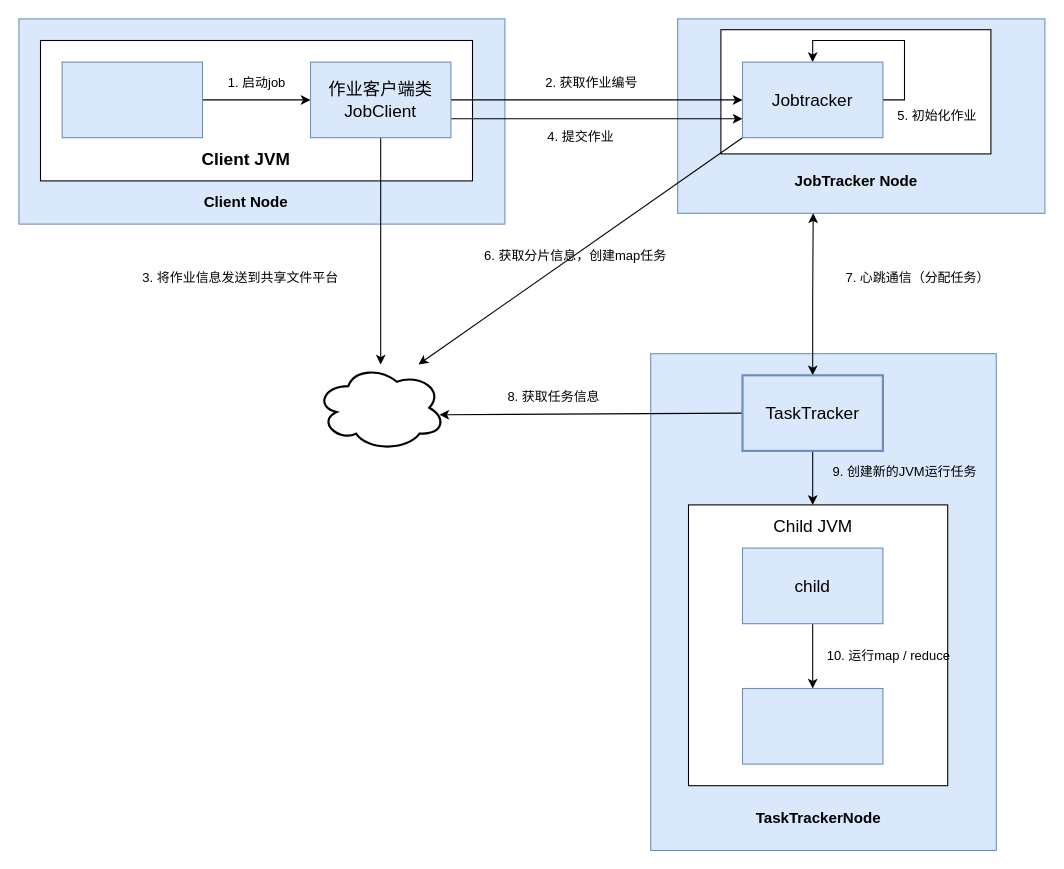
This 1064x869 diagram has some shape labels left out. The centre of each missing label's shape, as x and y in pixels:
"MapReduce程序" belongs at [131,99].
"MapTask or ReduceTask" belongs at [812,725].
